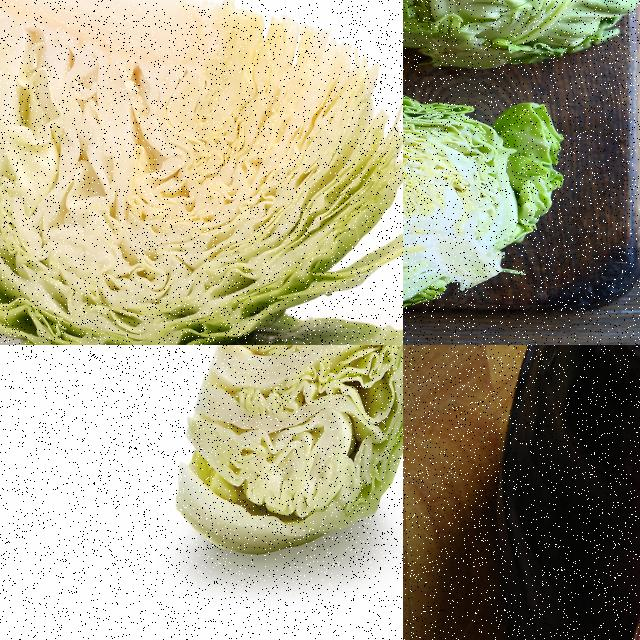cabbage: (0, 0, 402, 344), (168, 345, 402, 561), (481, 345, 639, 639), (403, 89, 569, 326), (403, 0, 639, 72)
